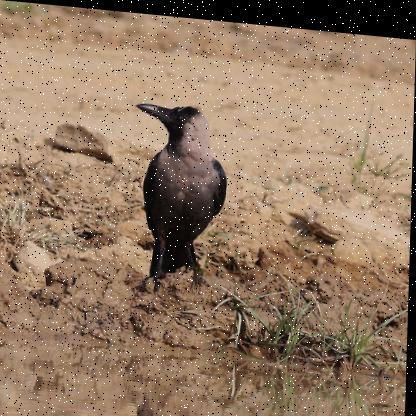Burung: (133, 98, 229, 290)
